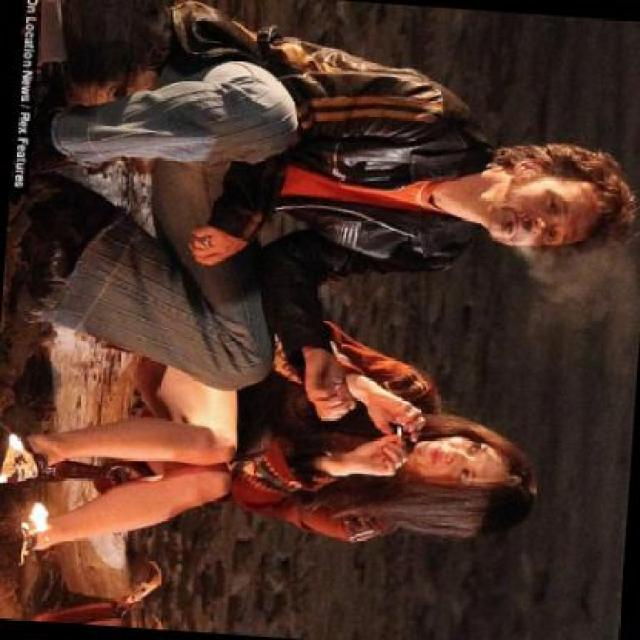smoke: (390, 422, 404, 448)
